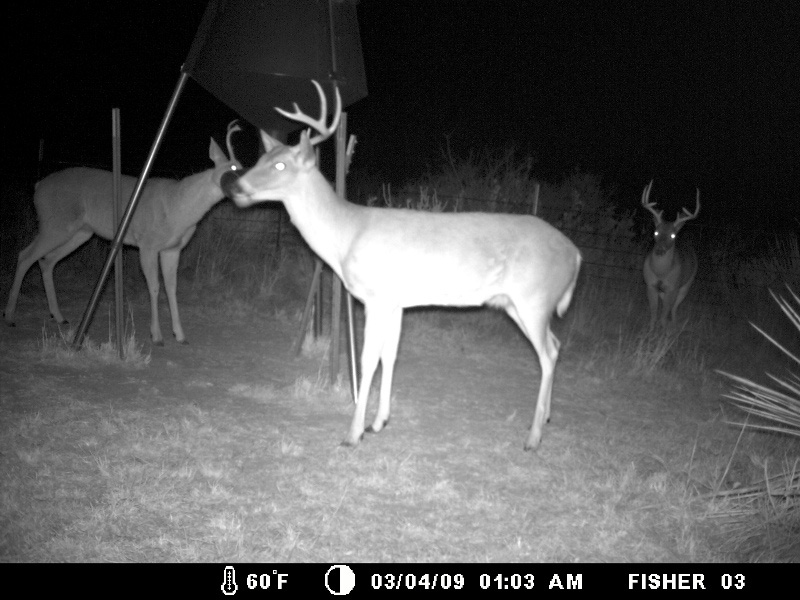cervo: (226, 80, 592, 471), (2, 117, 244, 339), (636, 173, 710, 341)
